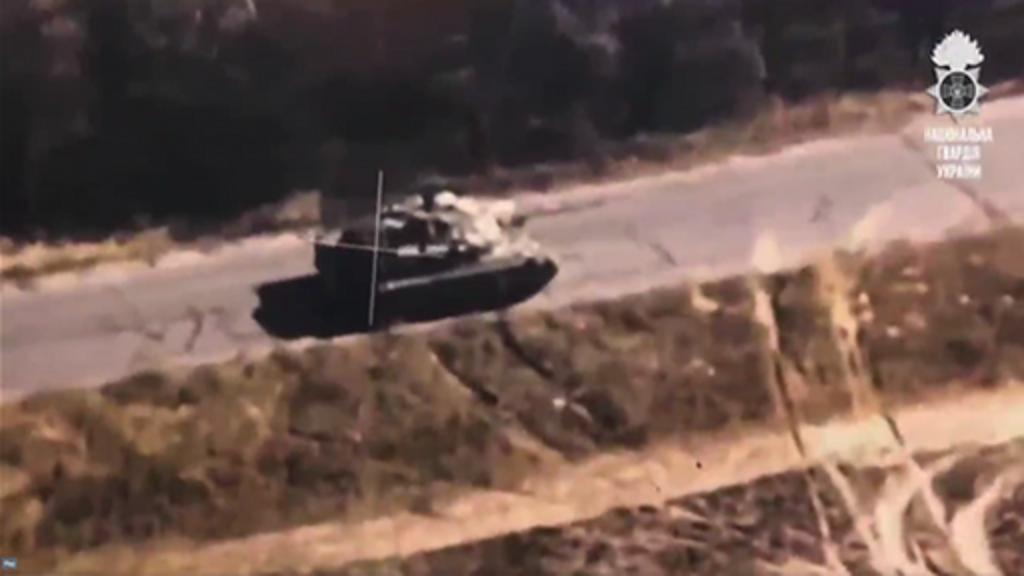TANK: (314, 170, 612, 334)
